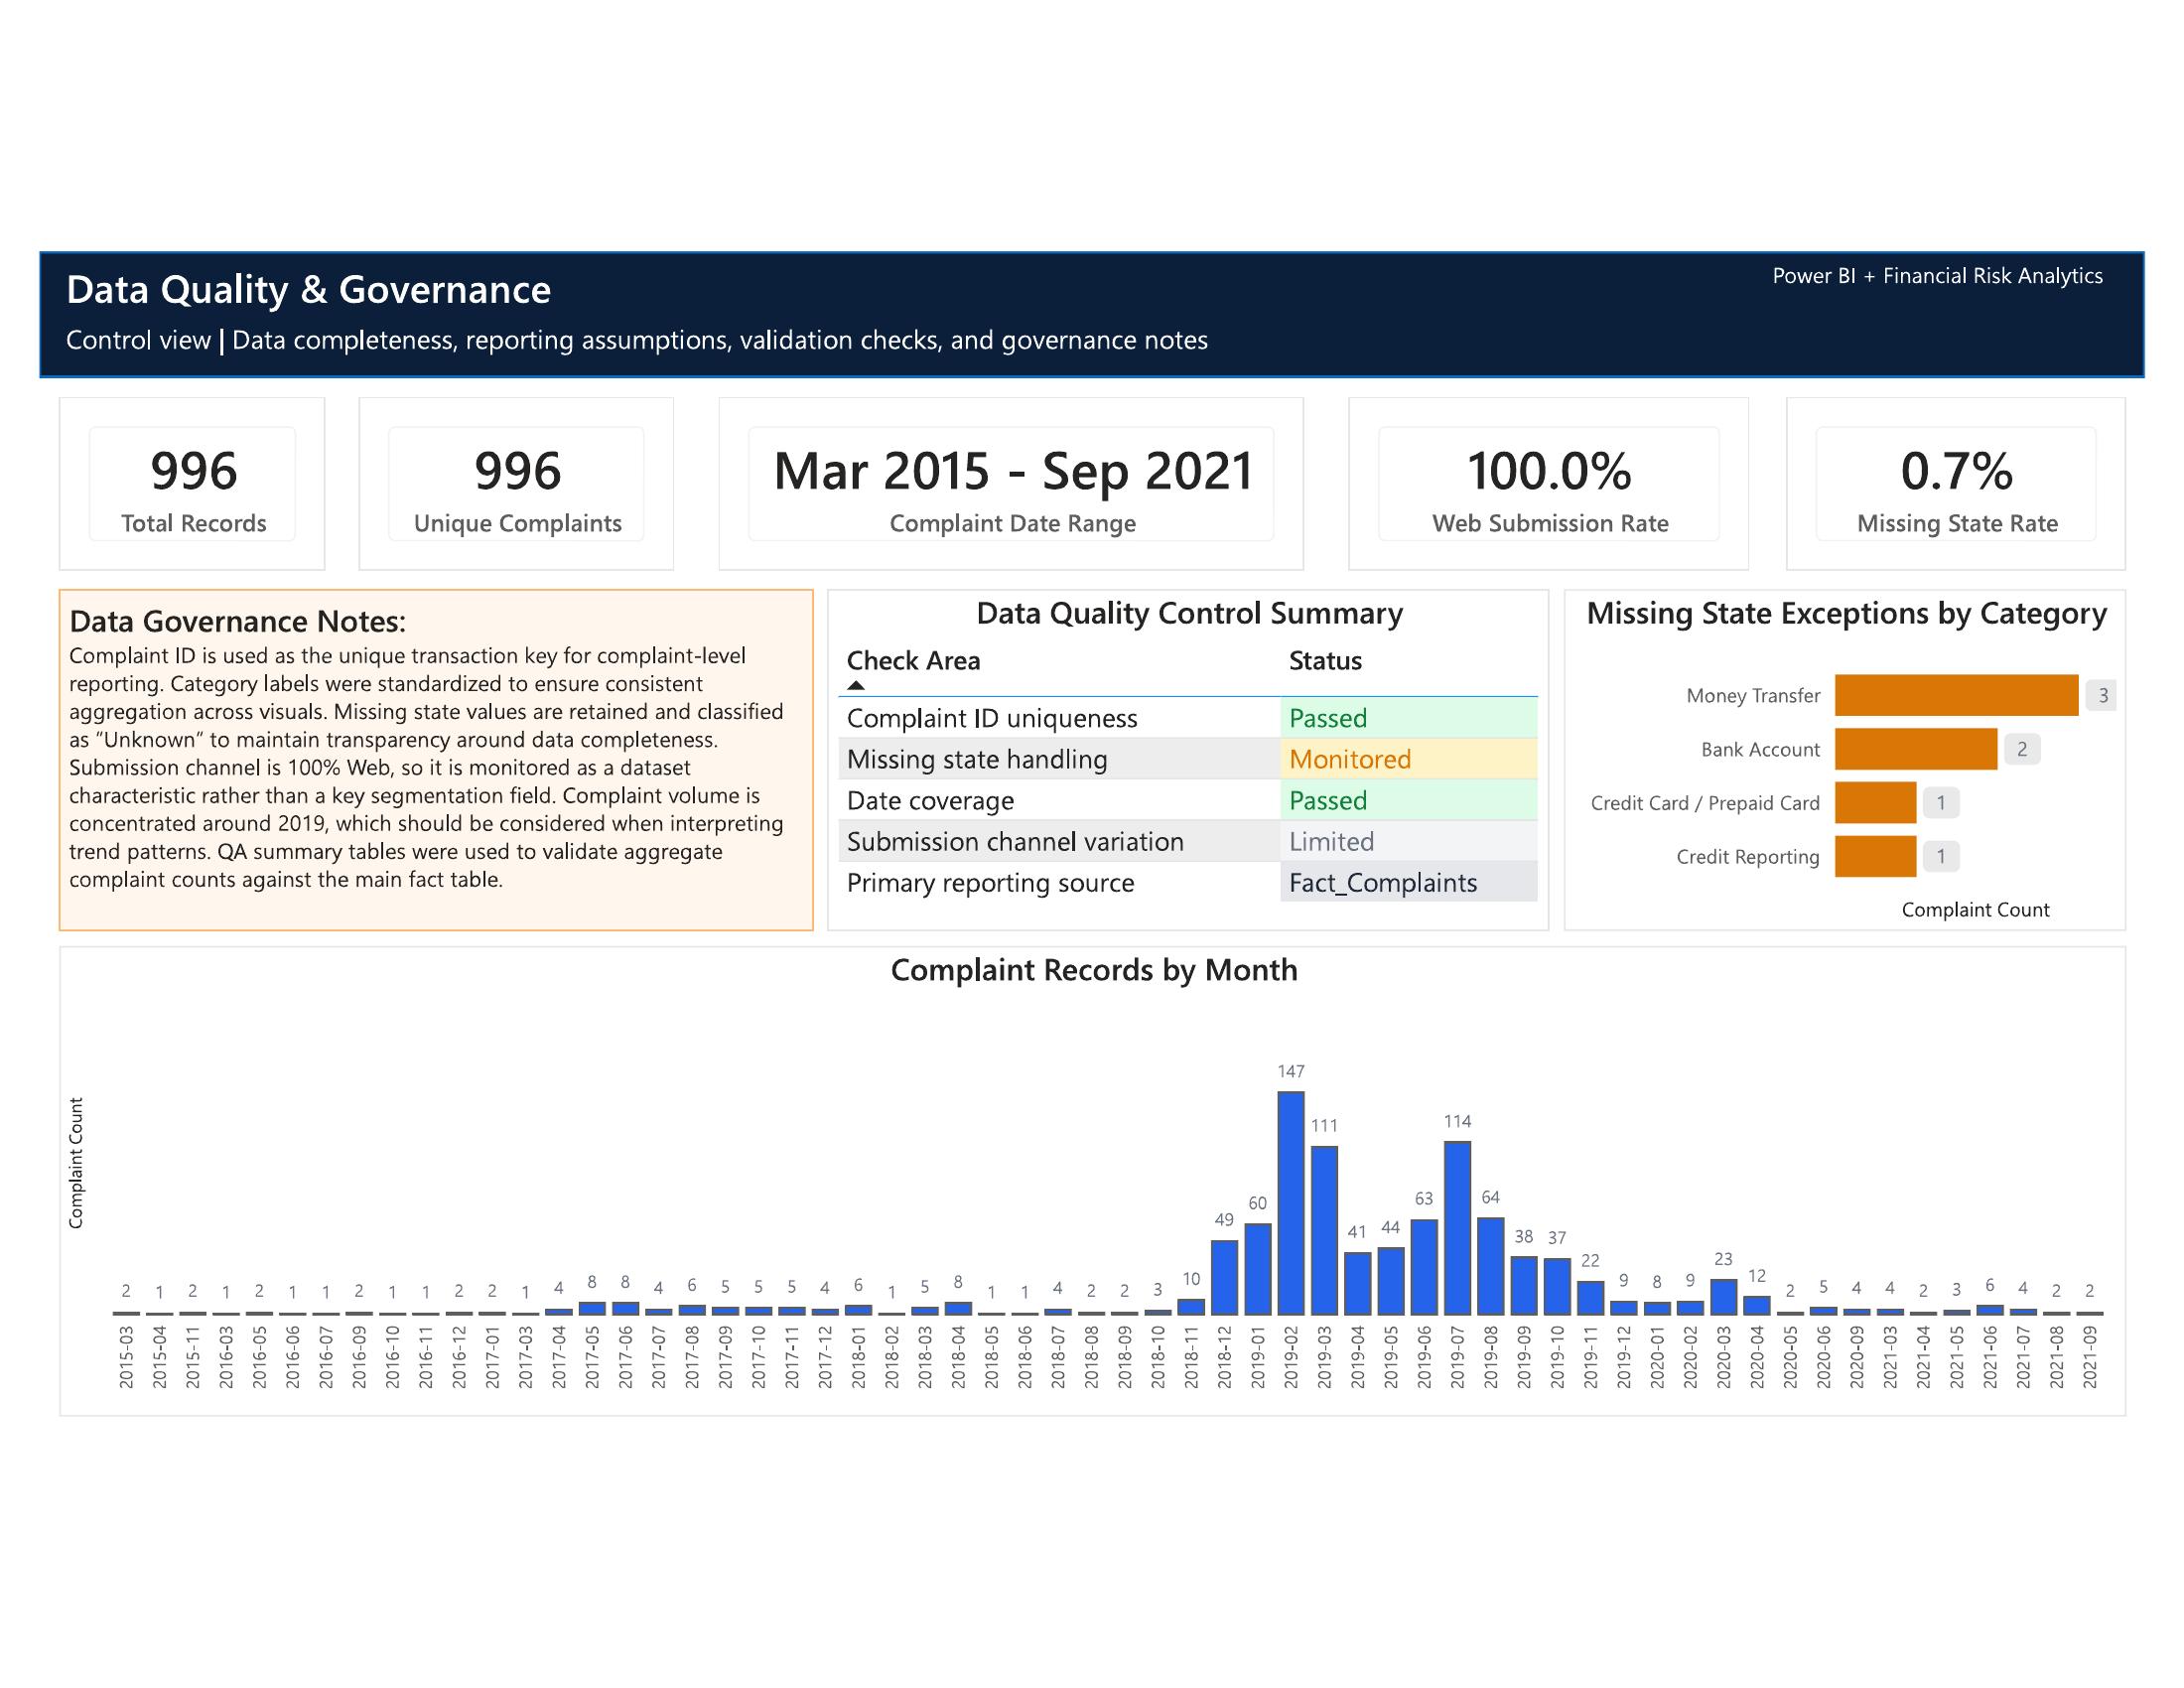

This screenshot's page, from the dashboard's own definition file:
{"tool":"powerbi","page":{"name":"Data Quality & Governance","canvas":[1280,720],"ordinal":5},"visuals":[{"type":"shape","box":[0,0,1280,76],"z":0},{"type":"textbox","box":[10.9,0,308.8,47.1],"z":1000},{"type":"textbox","box":[10.9,37.4,785.4,38.6],"z":2000},{"type":"textbox","box":[1040,0,229.2,37.4],"z":3000},{"type":"cardVisual","fields":{"Data":["_Measures.Total Records"]},"box":[12.1,88.1,161.7,106.2],"z":4000},{"type":"cardVisual","fields":{"Data":["_Measures.Complaint Count"]},"box":[194.2,88.1,191.8,106],"z":5000},{"type":"cardVisual","fields":{"Data":["_Measures.Missing State Rate"]},"box":[1061.7,88.1,207.5,106],"z":6000},{"type":"cardVisual","fields":{"Data":["_Measures.Web Submission Rate"]},"box":[796.3,88.1,243.7,106],"z":7000},{"type":"cardVisual","fields":{"Data":["_Measures.Complaint Date Range"]},"box":[412.6,88.1,355.9,106],"z":8000},{"type":"textbox","box":[12,303.5,162,151],"z":9000},{"type":"textbox","box":[12.1,205.1,458.4,207.5],"z":10000},{"type":"tableEx","title":"Data Quality Control Summary","fields":{"Values":["Data Quality Control Summary.Check Area","Data Quality Control Summary.Status"]},"box":[479,205.1,439.1,207.5],"z":11000},{"type":"clusteredBarChart","title":"Missing State Exceptions by Category","fields":{"Category":["Dim_Category.Complaint Category"],"Y":["_Measures.Missing State Complaints"]},"box":[926.5,205.1,342.6,207.5],"z":12000},{"type":"lineStackedColumnComboChart","title":"Complaint Records by Month","fields":{"Category":["Dim_Date.Year Month"],"Y":["_Measures.Complaint Count"]},"box":[12.1,422.3,1257.1,285.9],"z":13000}]}

Visuals, with their boxes on the page's 1280x720 design canvas (x1, y1, x2, y2). These are canvas units, not pixel positions in the 2184x1688 screenshot, which may show the page scaled, cropped or inside an application window:
shape: detection(0, 0, 1280, 76)
textbox: detection(11, 0, 320, 47)
textbox: detection(11, 37, 796, 76)
textbox: detection(1040, 0, 1269, 37)
cardVisual - _Measures.Total Records: detection(12, 88, 174, 194)
cardVisual - _Measures.Complaint Count: detection(194, 88, 386, 194)
cardVisual - _Measures.Missing State Rate: detection(1062, 88, 1269, 194)
cardVisual - _Measures.Web Submission Rate: detection(796, 88, 1040, 194)
cardVisual - _Measures.Complaint Date Range: detection(413, 88, 768, 194)
textbox: detection(12, 304, 174, 454)
textbox: detection(12, 205, 470, 413)
"Data Quality Control Summary" tableEx: detection(479, 205, 918, 413)
"Missing State Exceptions by Category" clusteredBarChart: detection(926, 205, 1269, 413)
"Complaint Records by Month" lineStackedColumnComboChart: detection(12, 422, 1269, 708)
